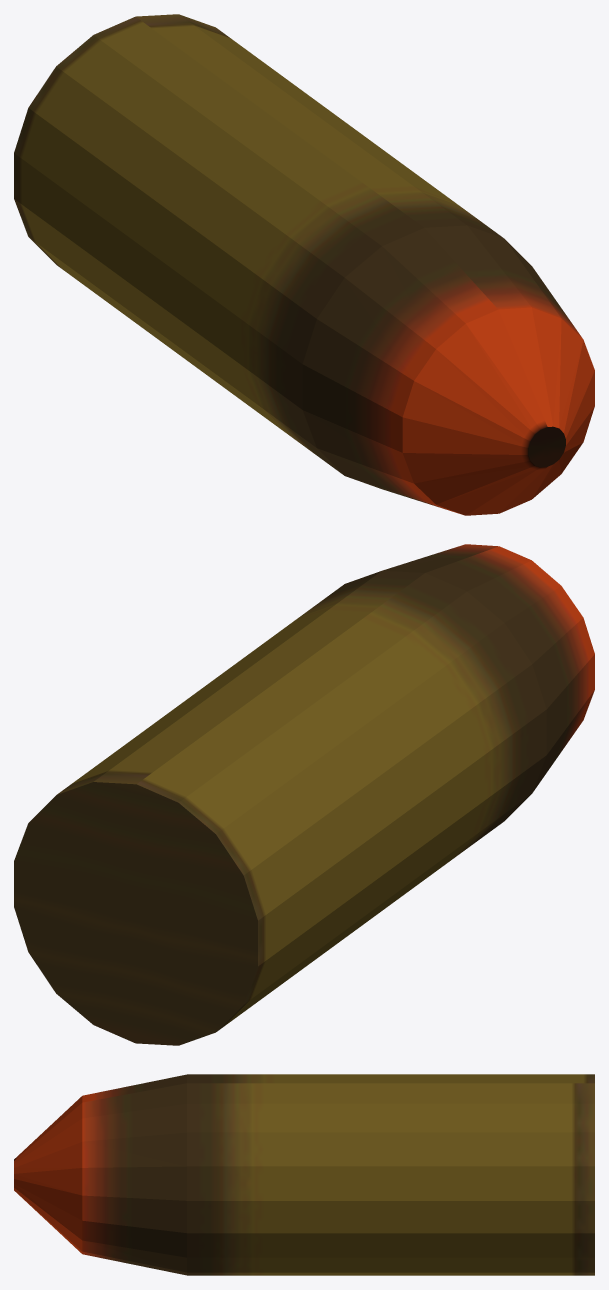
The model's file is Bullet.glb.
3 views of the same model, one above another, from view 1: azimuth 30°, elevation 25°; view 2: azimuth 150°, elevation 25°; view 3: azimuth 270°, elevation 25° (orthographic). The views are drawn at different scales.
Visible parts, largest first — view 1: Bullet; view 2: Bullet; view 3: Bullet.
Part boxes in pixels (x1,y1,x2,y2): Bullet: [14, 14, 594, 515]; Bullet: [14, 544, 594, 1045]; Bullet: [14, 1074, 594, 1275].
Size of the model in its own units: 6.2 by 6.3 by 18.1.
Materials: 1 (1 with a texture image).
